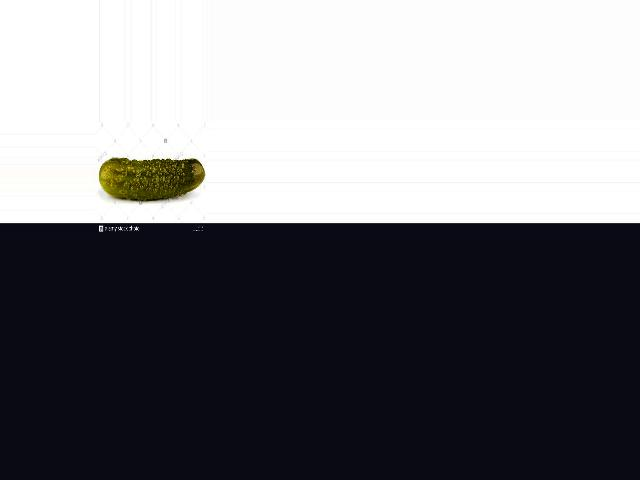cucumber: (99, 158, 206, 201)
